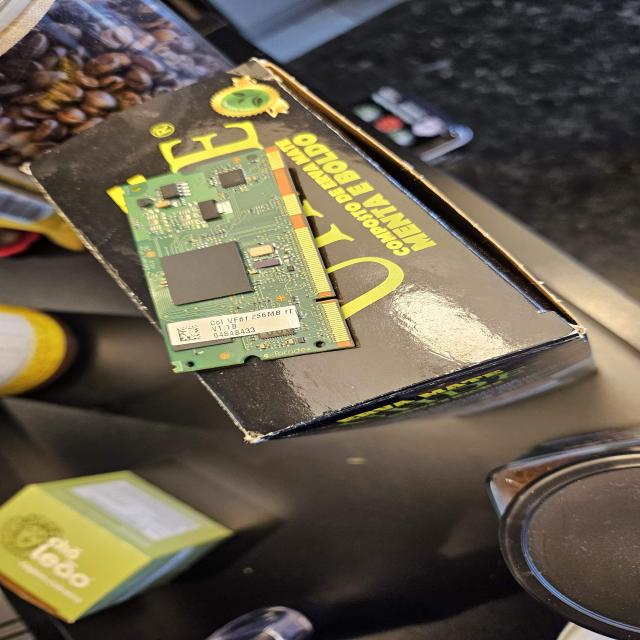som: (115, 141, 365, 380)
